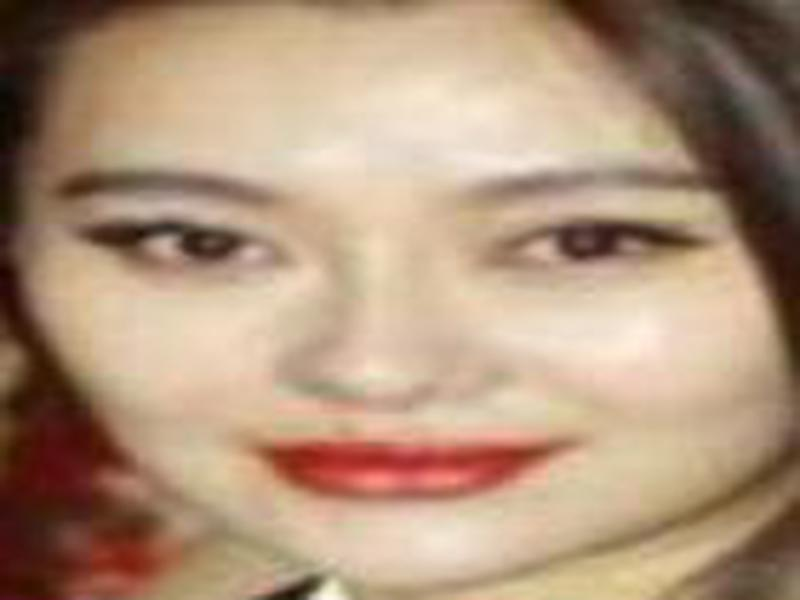without_mask: (34, 42, 774, 584)
